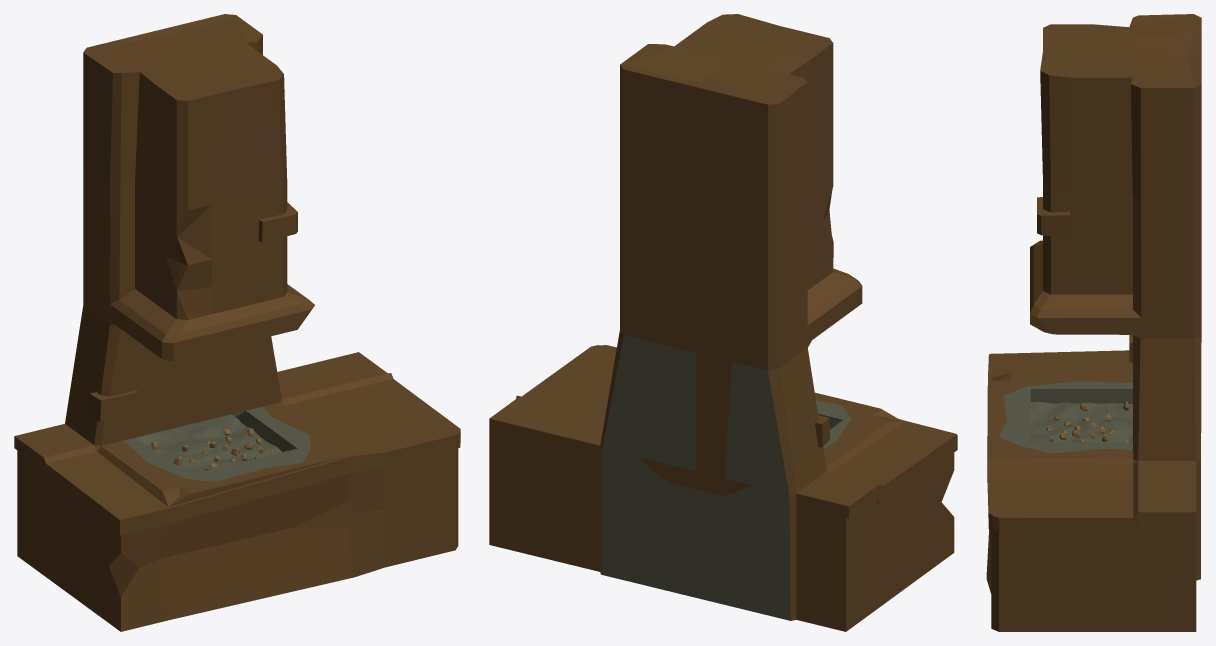
The model's file is forge_02.fbx.
The picture shows the model from 3 angles, left to right: view 1: azimuth 30°, elevation 25°; view 2: azimuth 150°, elevation 25°; view 3: azimuth 270°, elevation 25°; orthographic projection. The views are drawn at different scales.
Parts seen in each view (by area): view 1: forge; view 2: forge; view 3: forge.
Boxes of the visible parts, x1,y1,x2,y2 form: forge: (14,14,460,631); forge: (489,14,957,631); forge: (986,14,1201,631).
Size of the model in its own units: 214 by 288 by 116.
